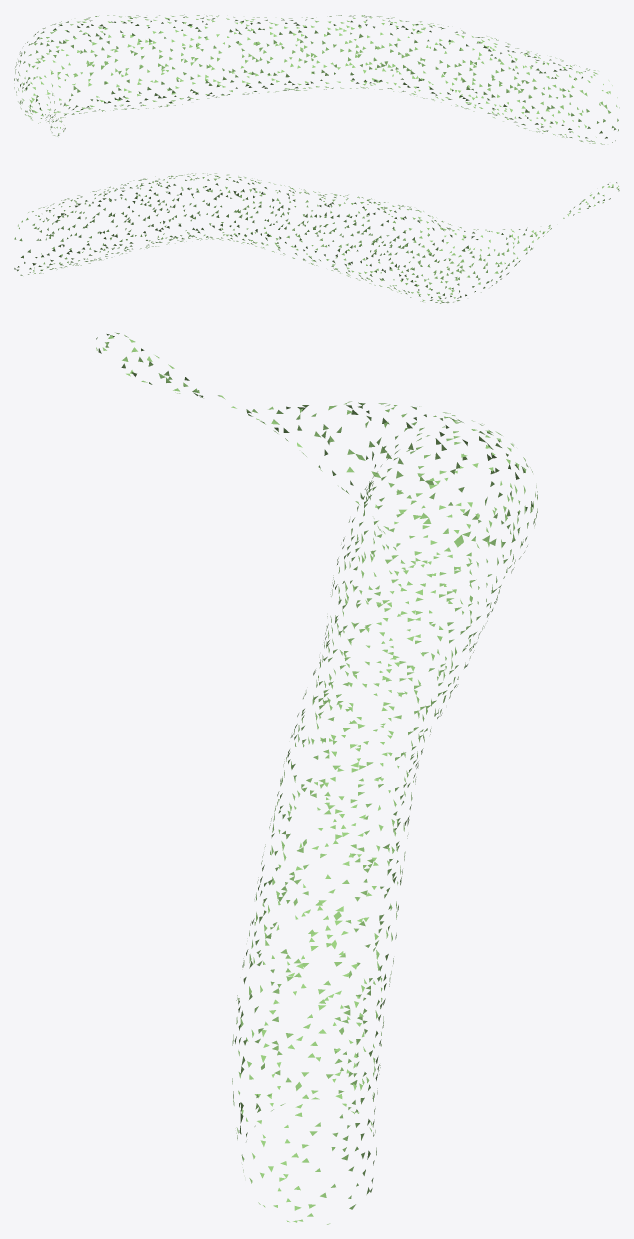
The model's file is morph_014.glb.
The picture shows the model from 3 angles, top to bottom: view 1: azimuth 30°, elevation 25°; view 2: azimuth 150°, elevation 25°; view 3: azimuth 270°, elevation 25°; orthographic projection. The views are drawn at different scales.
Bounding box in the file's own units: 116 × 37.98 × 41.17.
